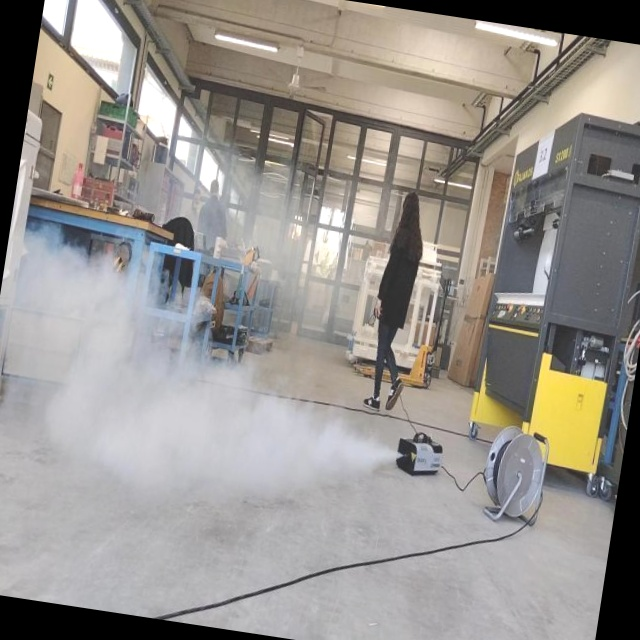smoke: (0, 239, 415, 531)
